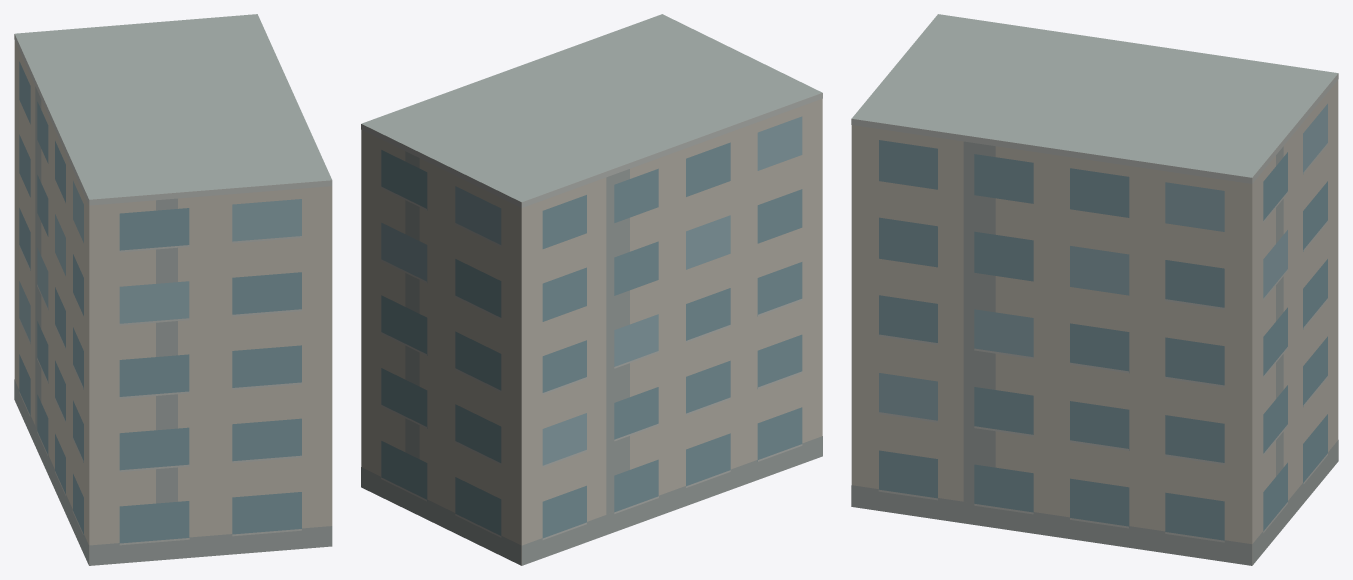
Rendered from residential-d7b593d0-7aa5-4e6a-b13d-b7a90b1af835.glb.
The picture shows the model from 3 angles, left to right: view 1: azimuth 30°, elevation 25°; view 2: azimuth 150°, elevation 25°; view 3: azimuth 270°, elevation 25°; orthographic projection. The views are drawn at different scales.
Visible parts, largest first — view 1: residential-d7b593d0-7aa5-4e6a-b13d-b7a90b1af835.tmp; view 2: residential-d7b593d0-7aa5-4e6a-b13d-b7a90b1af835.tmp; view 3: residential-d7b593d0-7aa5-4e6a-b13d-b7a90b1af835.tmp.
Part boxes in pixels (x1=…): residential-d7b593d0-7aa5-4e6a-b13d-b7a90b1af835.tmp: x1=14, y1=14, x2=332, y2=565; residential-d7b593d0-7aa5-4e6a-b13d-b7a90b1af835.tmp: x1=361, y1=14, x2=822, y2=565; residential-d7b593d0-7aa5-4e6a-b13d-b7a90b1af835.tmp: x1=851, y1=14, x2=1338, y2=565.
Size of the model in its own units: 13.81 by 15.25 by 17.35.
